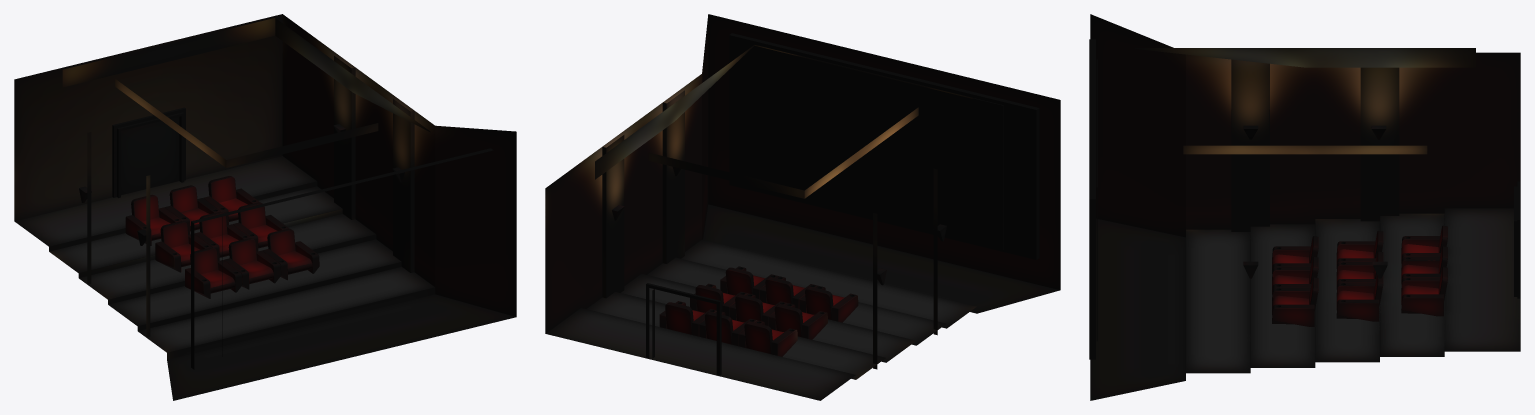
Rendered from theater.gltf.
The picture shows the model from 3 angles, left to right: view 1: azimuth 30°, elevation 25°; view 2: azimuth 150°, elevation 25°; view 3: azimuth 270°, elevation 25°; orthographic projection. The views are drawn at different scales.
Parts seen in each view (by area): view 1: Theater_; view 2: Theater_; view 3: Theater_.
Boxes of the visible parts, box(x1,y1,x2,y2) form: Theater_: box(14, 14, 516, 400); Theater_: box(545, 14, 1060, 400); Theater_: box(1089, 14, 1520, 400).
Size of the model in its own units: 5.22 by 2.71 by 5.18.
Materials: 1 (1 with a texture image).
